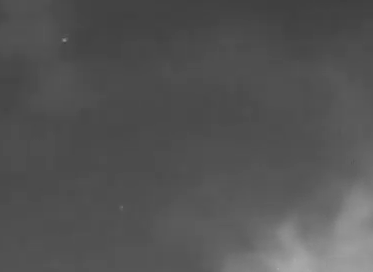Target: (63, 39, 123, 207)
